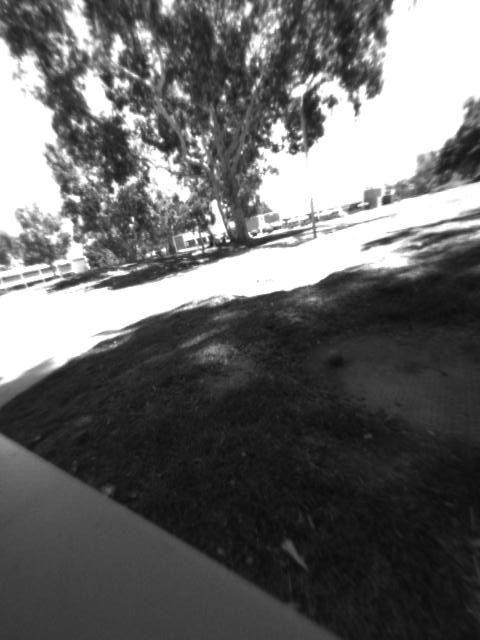dogtoy: (317, 340, 353, 375)
